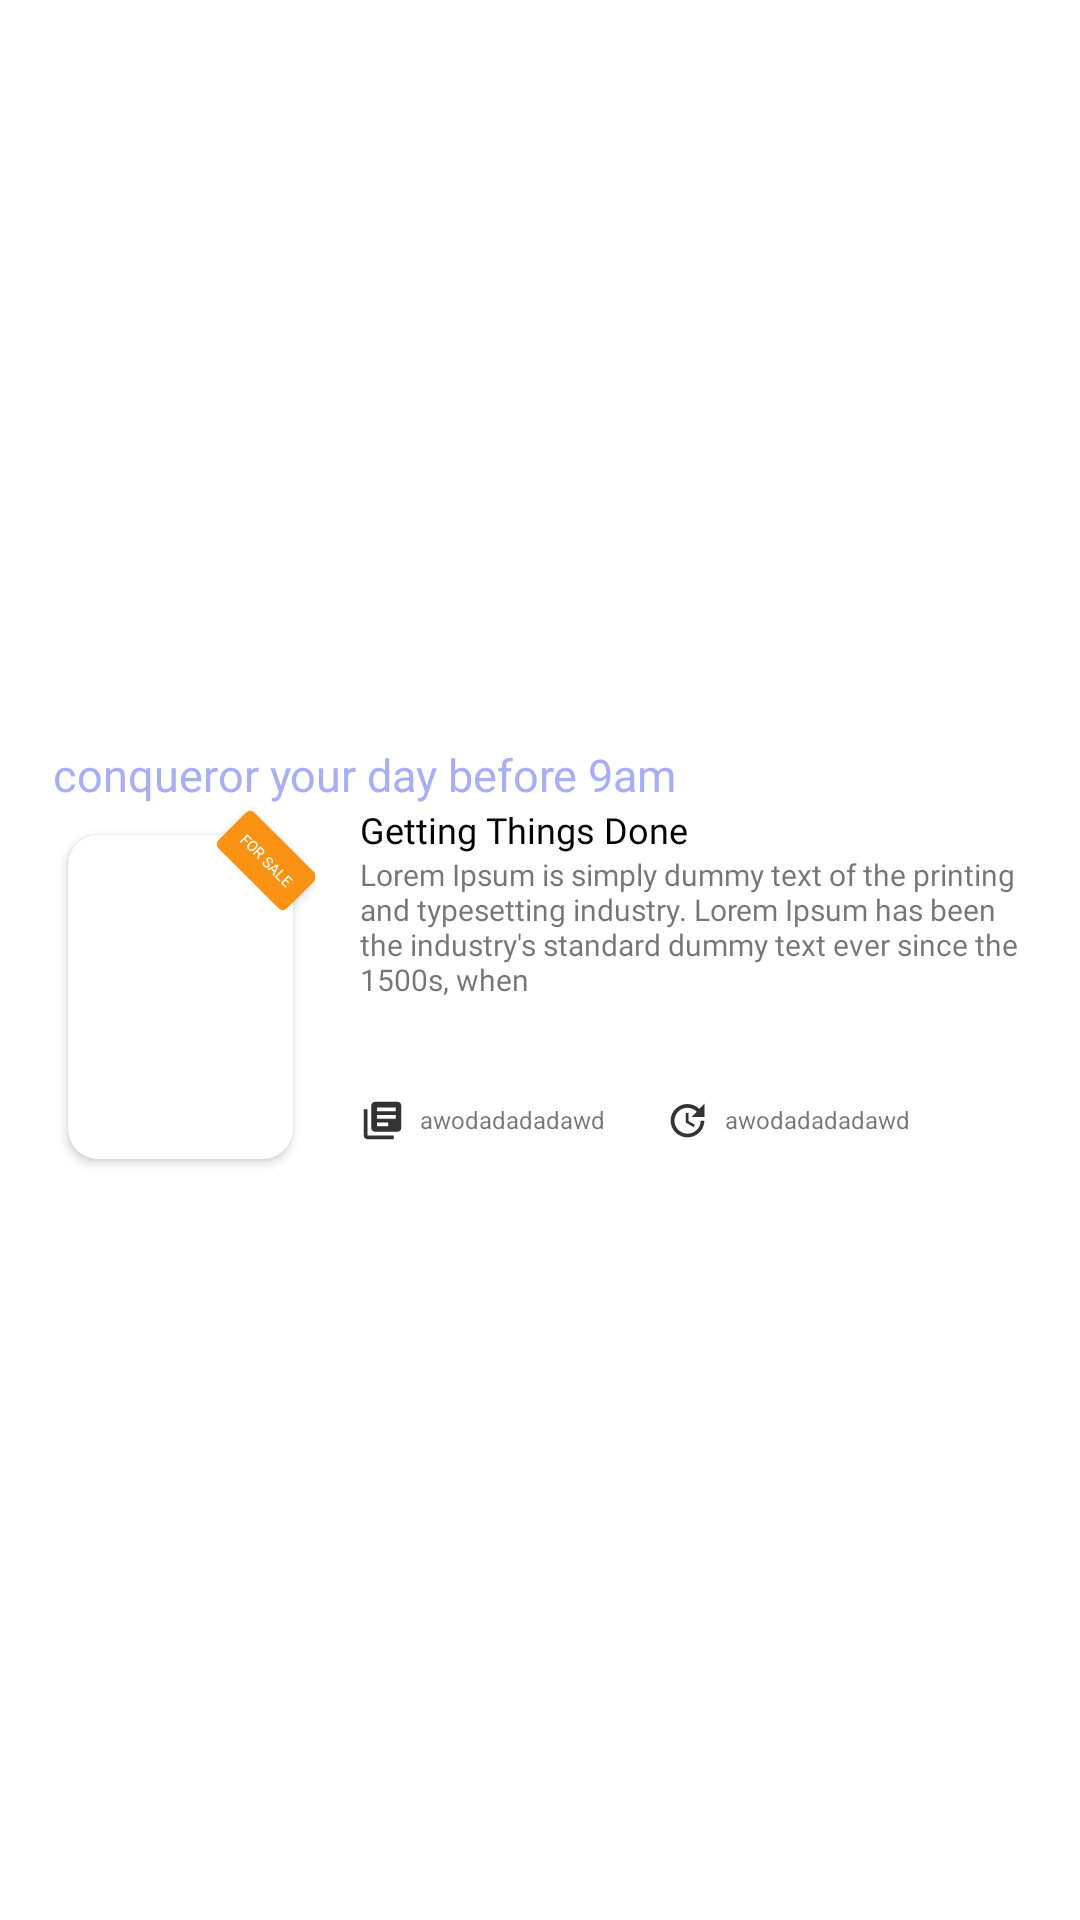

Screen size 1080x1920. Icon name, then its center in pixels as point (x, y):
pagebooks: point (382, 1120)
